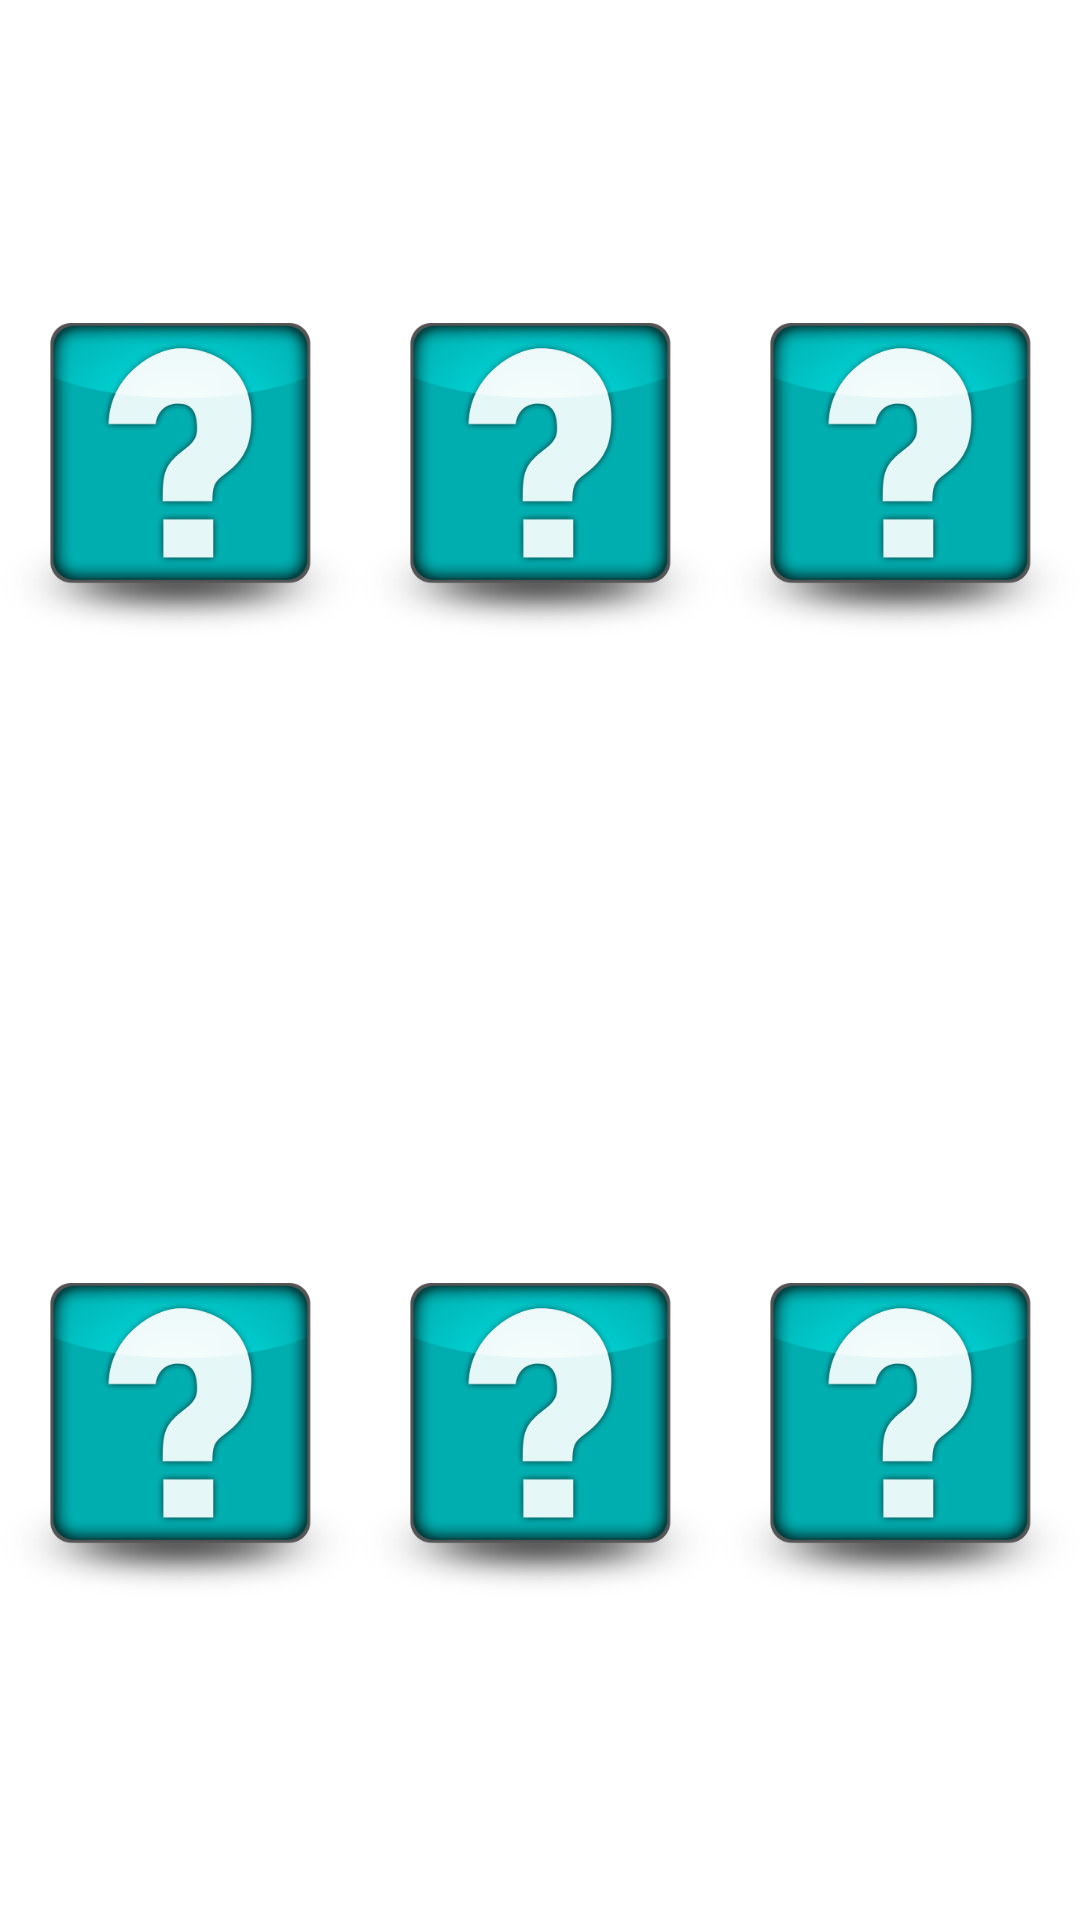

Where icons sit on this 1080×1920 app screen, as detection(x1, y1, x2, y2):
questions: detection(50, 323, 311, 618), detection(410, 323, 671, 618), detection(770, 323, 1031, 618), detection(50, 1283, 311, 1578), detection(410, 1283, 671, 1578), detection(770, 1283, 1031, 1578)
